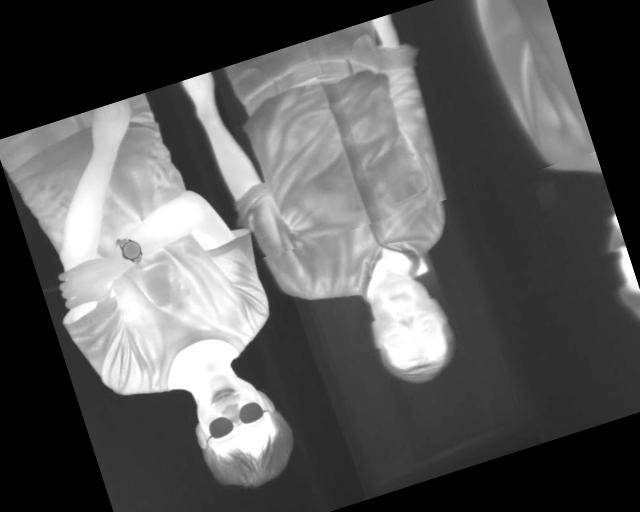face: (179, 356, 303, 501), (355, 262, 465, 395)
